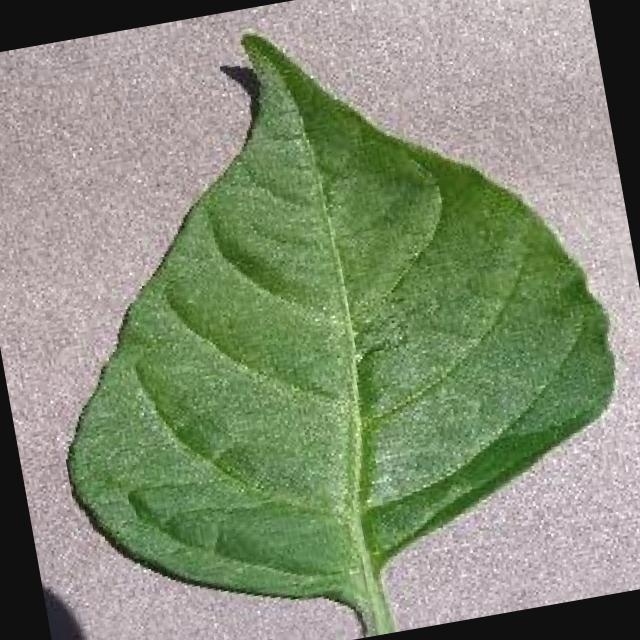Leaf: (26, 0, 585, 551)
